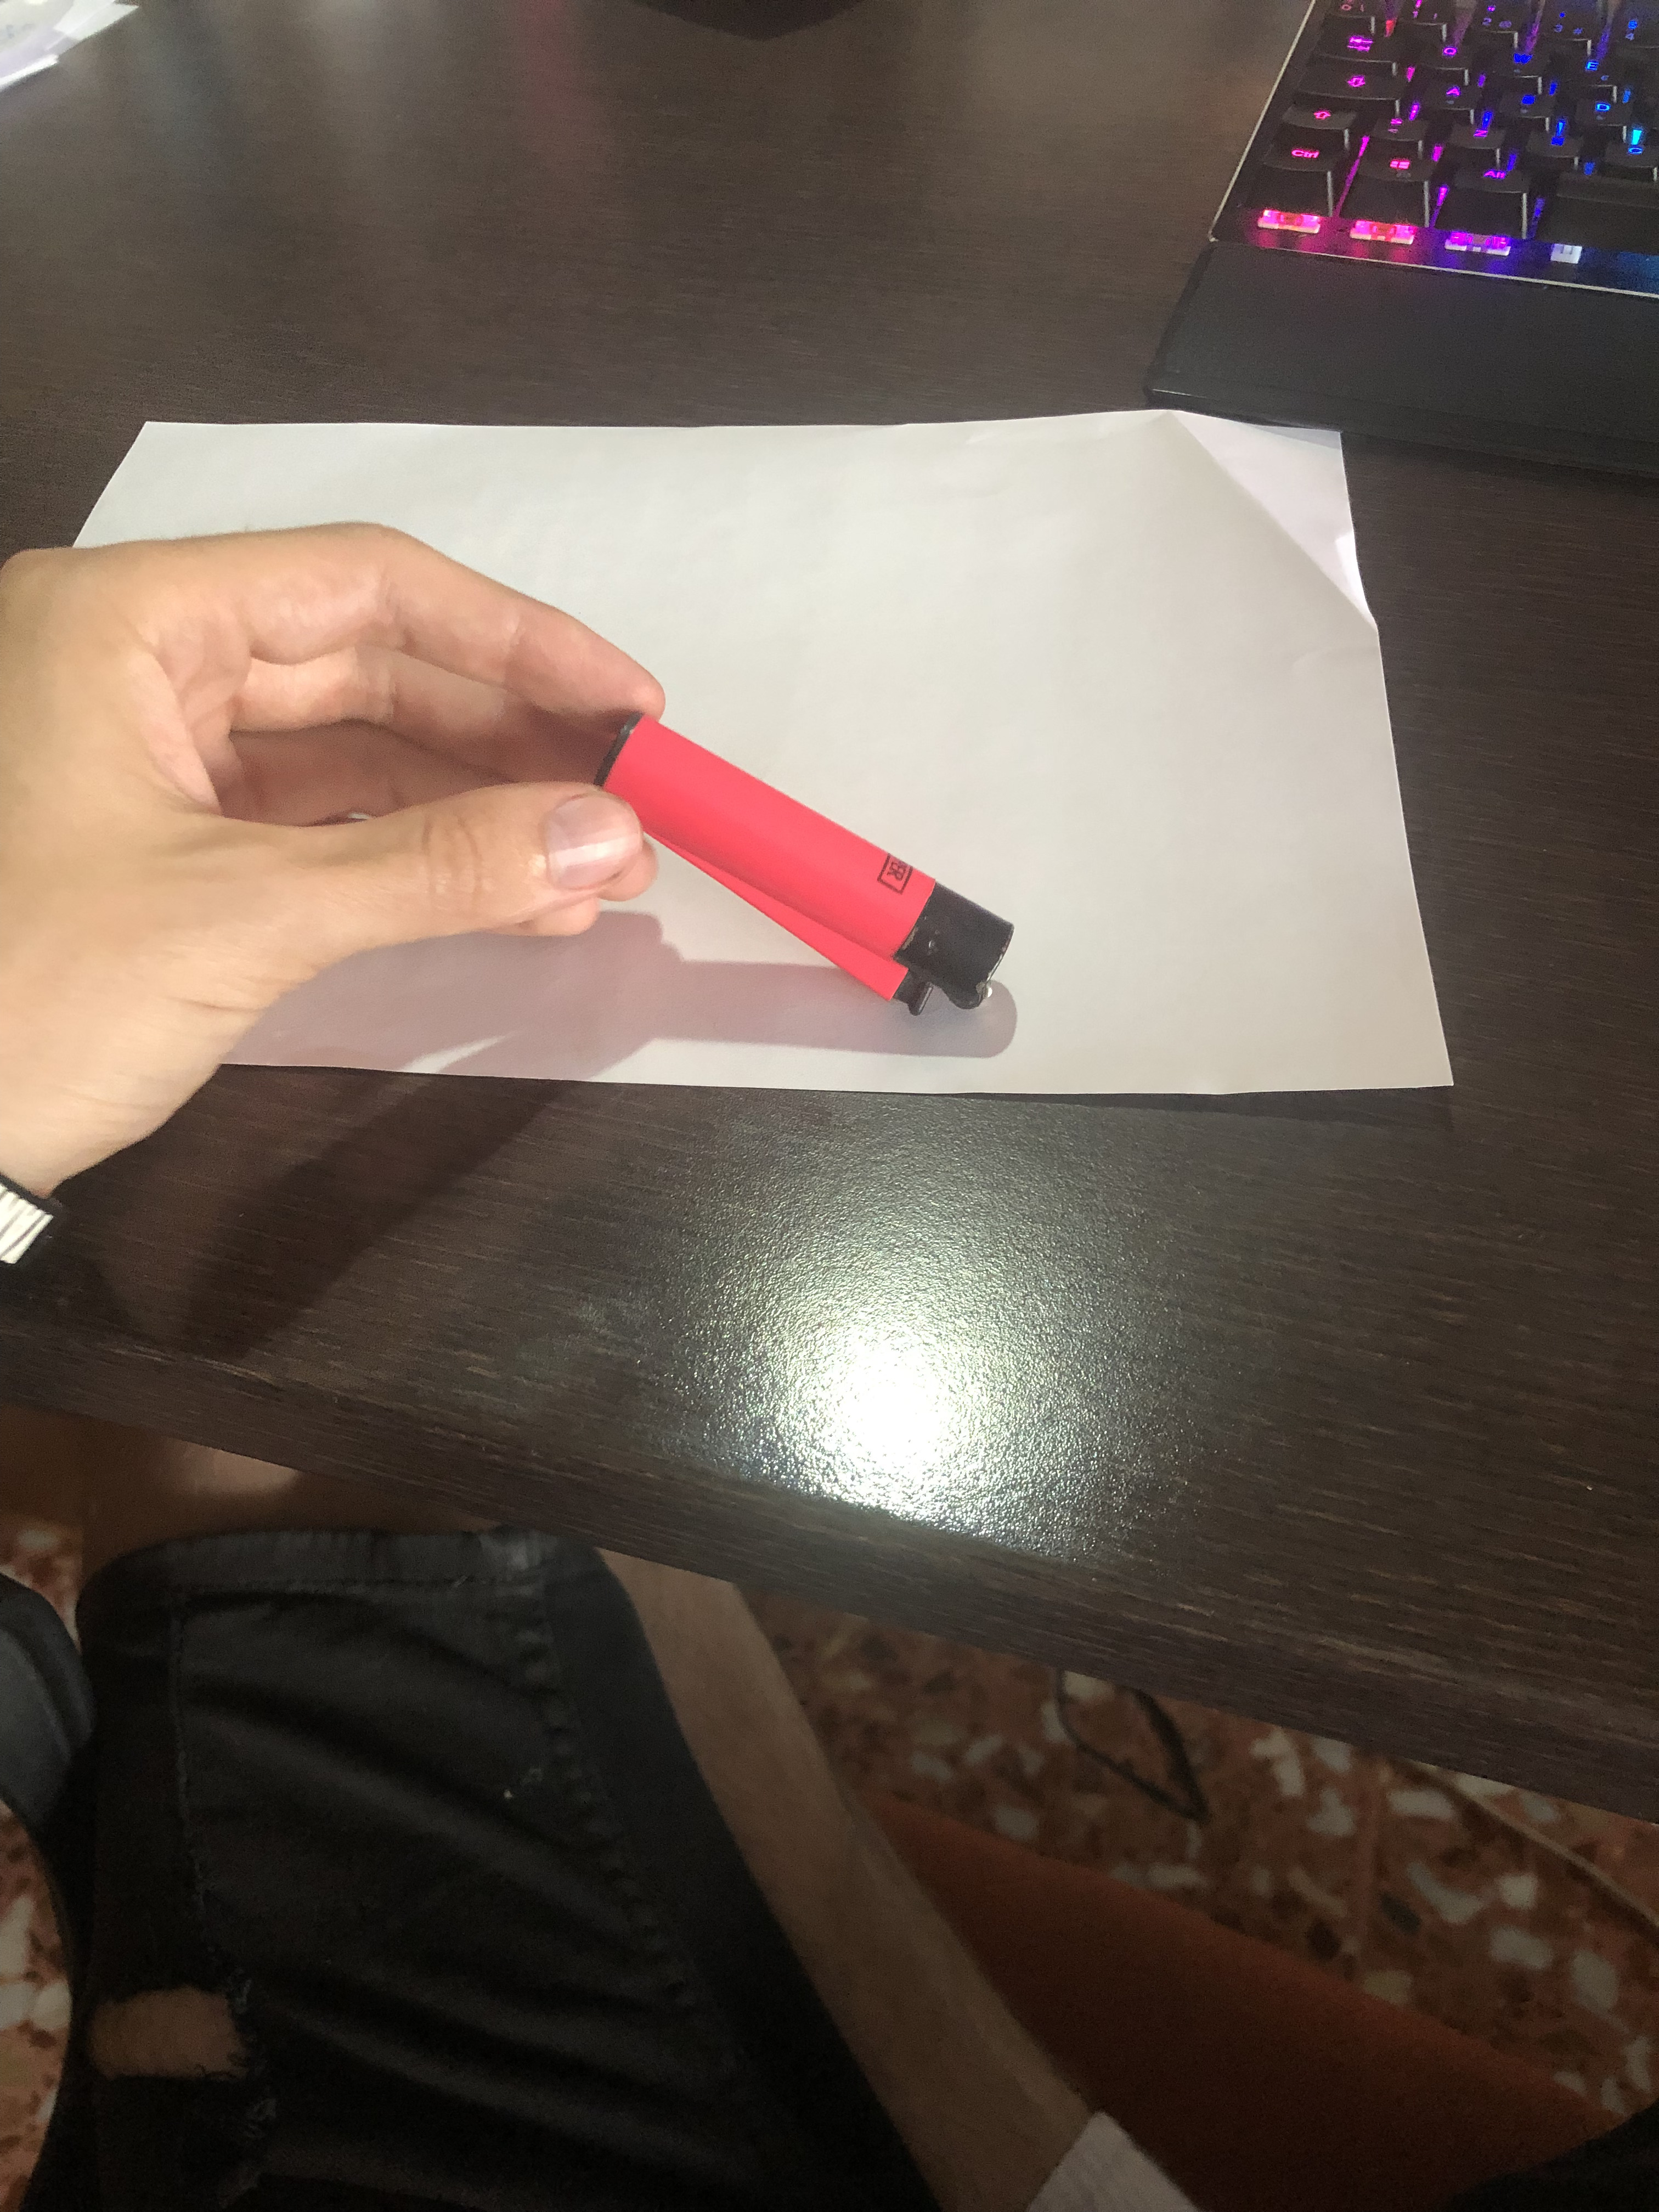Mechero: (592, 707, 1028, 1055)
